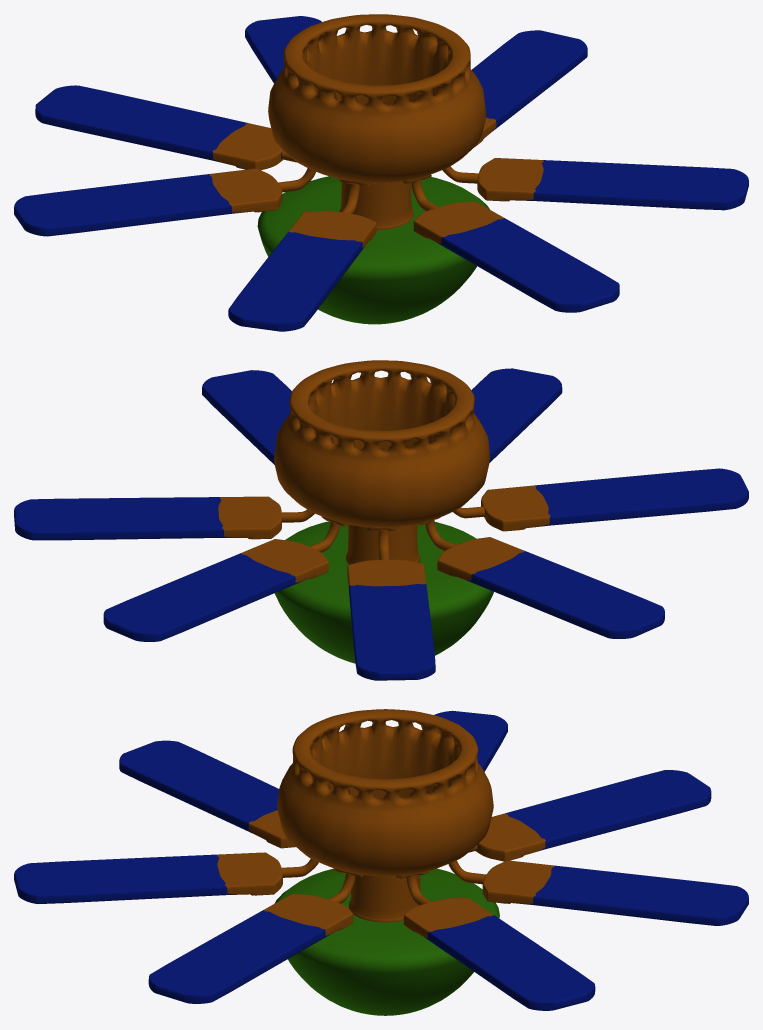
File: CeleingLight_high.fbx
The picture shows the model from 3 angles, top to bottom: view 1: azimuth 30°, elevation 25°; view 2: azimuth 150°, elevation 25°; view 3: azimuth 270°, elevation 25°; orthographic projection.
Parts seen in each view (by area): view 1: Blade9, HousingUnit1; view 2: Blade9, HousingUnit1; view 3: Blade9, HousingUnit1.
Part boxes in pixels (box(x1,y1,x2,y2)): Blade9: box(14, 16, 748, 331); HousingUnit1: box(257, 14, 489, 324); Blade9: box(14, 368, 748, 680); HousingUnit1: box(274, 360, 493, 663); Blade9: box(14, 710, 748, 1010); HousingUnit1: box(274, 709, 499, 1015).
Bounding box in the file's own units: 11 × 4.56 × 11.7.
